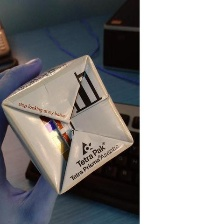carton: (0, 53, 133, 196)
